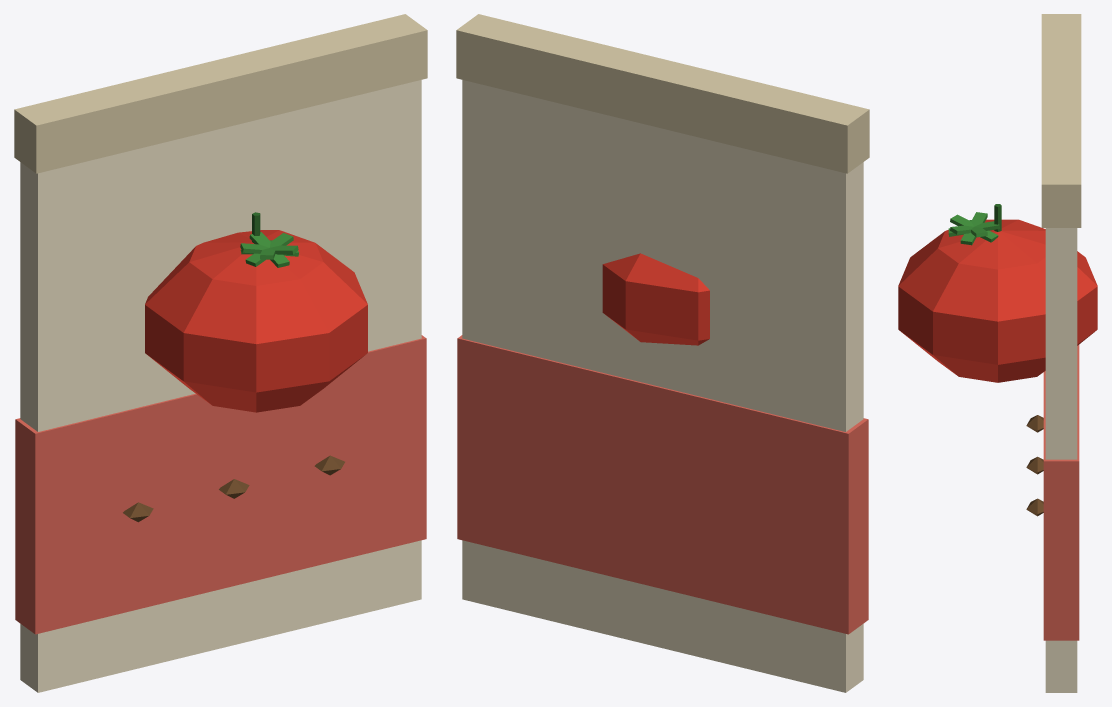
Rendered from uprawa-nasiona-pomidor.glb.
3 renders of one model, left to right at view 1: azimuth 30°, elevation 25°; view 2: azimuth 150°, elevation 25°; view 3: azimuth 270°, elevation 25°, orthographic. The views are drawn at different scales.
Parts seen in each view (by area): view 1: uprawa-nasiona-pomidor-0, uprawa-nasiona-pomidor-1, uprawa-nasiona-pomidor-3, uprawa-nasiona-pomidor-2; view 2: uprawa-nasiona-pomidor-0, uprawa-nasiona-pomidor-1, uprawa-nasiona-pomidor-2, uprawa-nasiona-pomidor-3; view 3: uprawa-nasiona-pomidor-3, uprawa-nasiona-pomidor-0, uprawa-nasiona-pomidor-2, uprawa-nasiona-pomidor-1, uprawa-nasiona-pomidor-5.
Boxes of the visible parts, x1,y1,x2,y2 form: uprawa-nasiona-pomidor-0: (20, 80, 421, 692); uprawa-nasiona-pomidor-1: (15, 335, 426, 634); uprawa-nasiona-pomidor-3: (145, 230, 367, 412); uprawa-nasiona-pomidor-2: (14, 14, 427, 173); uprawa-nasiona-pomidor-0: (462, 80, 863, 692); uprawa-nasiona-pomidor-1: (457, 335, 868, 634); uprawa-nasiona-pomidor-2: (456, 14, 869, 173); uprawa-nasiona-pomidor-3: (602, 253, 709, 345); uprawa-nasiona-pomidor-3: (898, 219, 1097, 382); uprawa-nasiona-pomidor-0: (1045, 228, 1077, 692); uprawa-nasiona-pomidor-2: (1041, 14, 1081, 227); uprawa-nasiona-pomidor-1: (1043, 345, 1079, 640); uprawa-nasiona-pomidor-5: (960, 212, 987, 245).
Bounding box in the file's own units: 1.02 × 1.42 × 0.5039.
